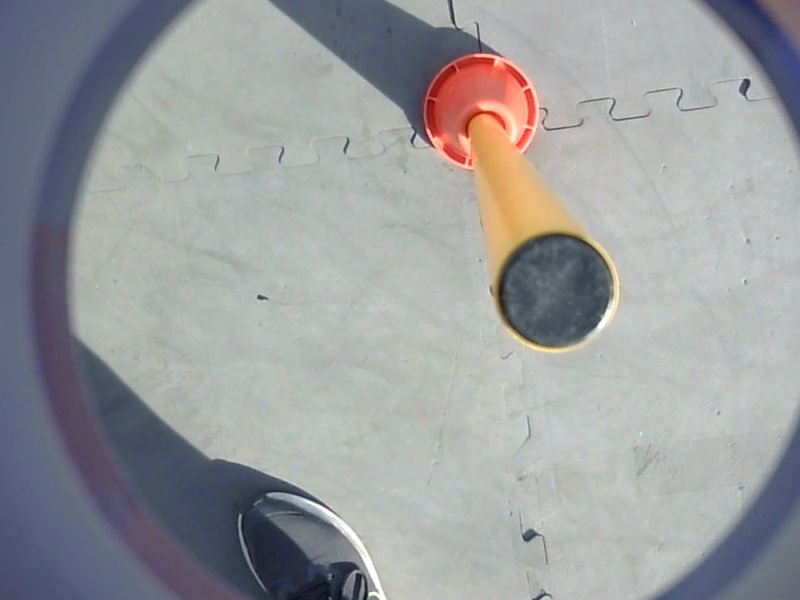tip: (487, 226, 624, 357)
